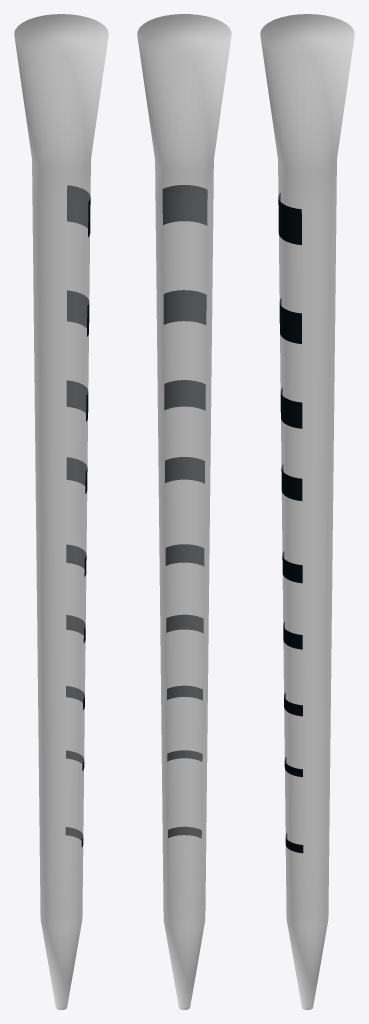
Rendered from pipeta.fbx.
The picture shows the model from 3 angles, left to right: view 1: azimuth 90°, elevation 25°; view 2: azimuth 150°, elevation 25°; view 3: azimuth 270°, elevation 25°; orthographic projection.
Parts seen in each view (by area): view 1: Cube; view 2: Cube; view 3: Cube.
Boxes of the visible parts, x1=… form: Cube: x1=14, y1=14, x2=108, y2=1009; Cube: x1=137, y1=14, x2=231, y2=1009; Cube: x1=260, y1=14, x2=354, y2=1009.
Size of the model in its own units: 93.71 by 1063 by 93.71.
